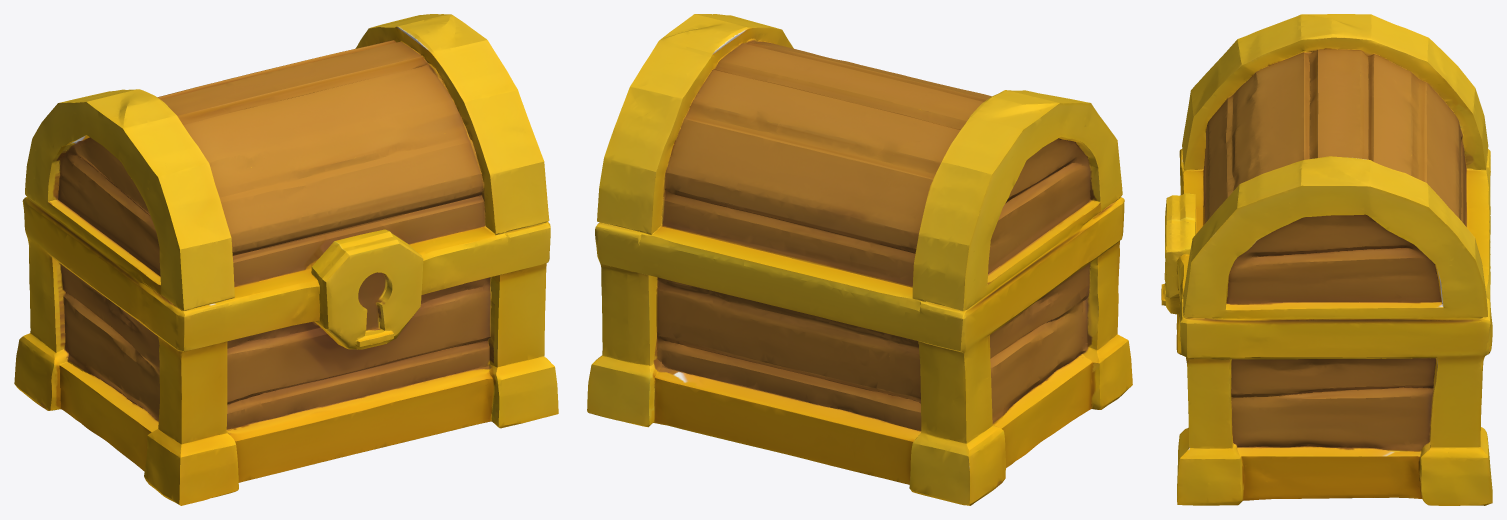
Rendered from base_basic_pbr.fbx.
3 renders of one model, left to right at view 1: azimuth 30°, elevation 25°; view 2: azimuth 150°, elevation 25°; view 3: azimuth 270°, elevation 25°, orthographic. The views are drawn at different scales.
Parts seen in each view (by area): view 1: model; view 2: model; view 3: model.
Boxes of the visible parts, x1,y1,x2,y2 form: model: [14, 14, 558, 505]; model: [587, 14, 1132, 505]; model: [1161, 14, 1492, 505].
Size of the model in its own units: 190 by 159 by 148.
1 material, 1 textured.
